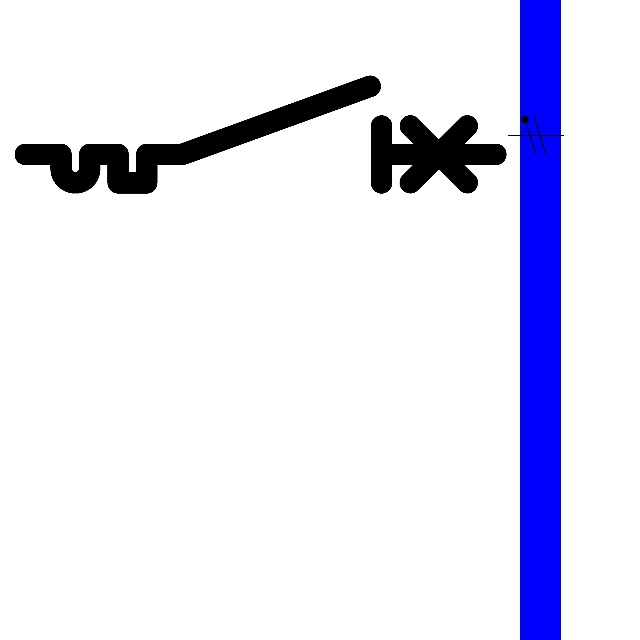interruptor_termomagnetico: (13, 74, 508, 195)
